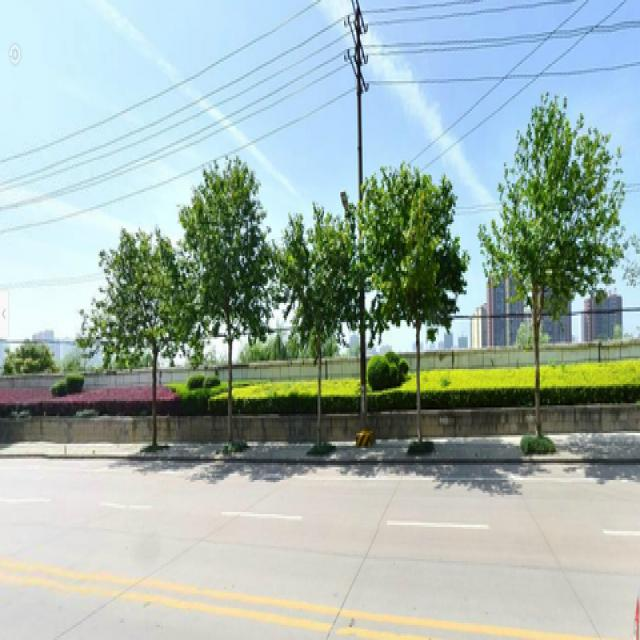meta: (504, 122, 612, 431), (372, 152, 464, 450), (192, 170, 263, 428), (106, 228, 178, 450), (281, 212, 348, 438)
